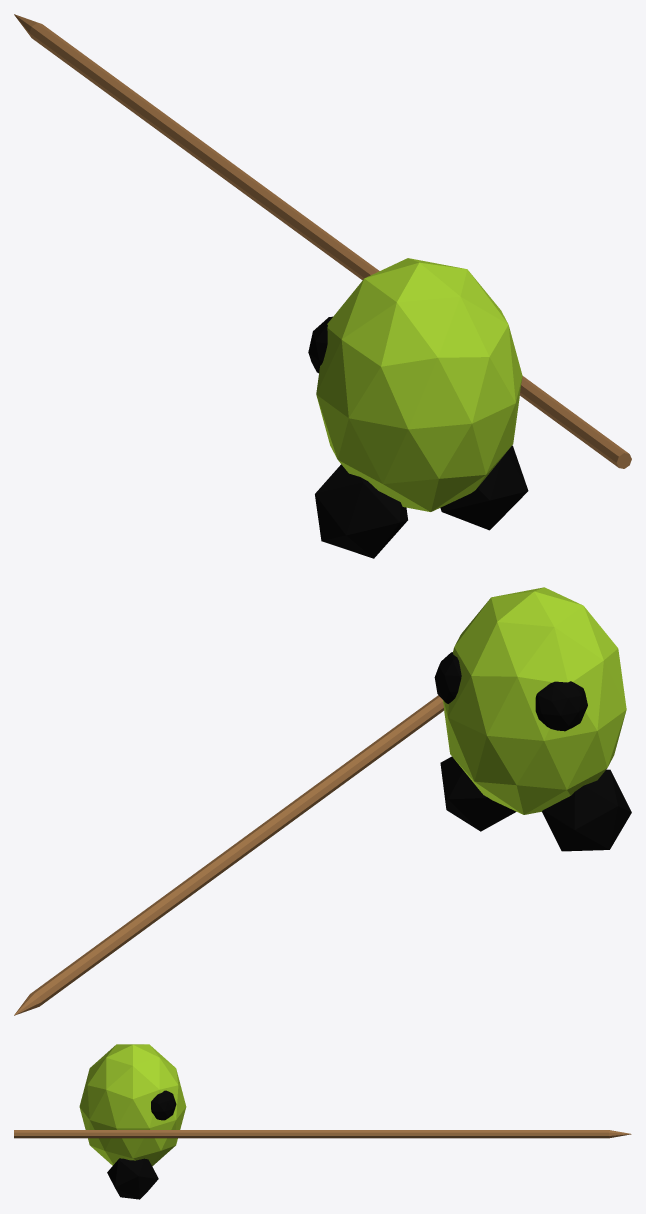
File: stab.f0004.glb
The picture shows the model from 3 angles, top to bottom: view 1: azimuth 30°, elevation 25°; view 2: azimuth 150°, elevation 25°; view 3: azimuth 270°, elevation 25°; orthographic projection. The views are drawn at different scales.
Parts seen in each view (by area): view 1: Body.001; view 2: Body.001; view 3: Body.001.
Boxes of the visible parts, x1,y1,x2,y2 form: Body.001: [14, 14, 631, 558]; Body.001: [14, 587, 631, 1015]; Body.001: [14, 1044, 631, 1199].
Bounding box in the file's own units: 2.17 × 2.85 × 11.56.
1 material, 1 textured.
